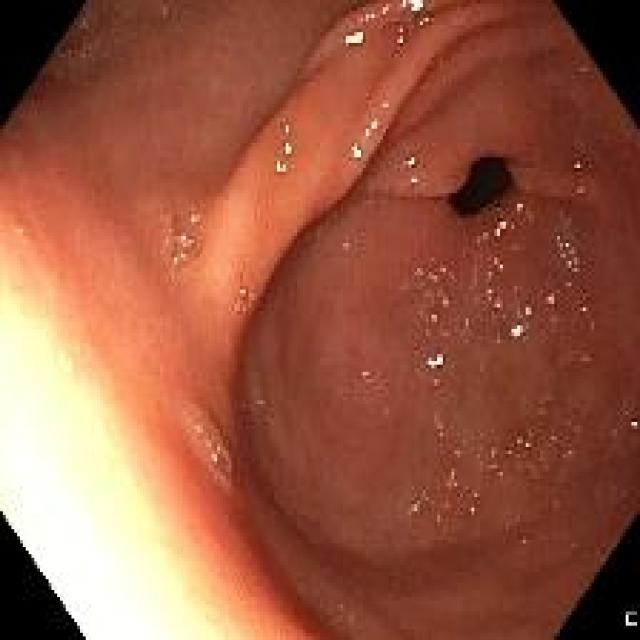bubbles: (165, 199, 218, 286), (46, 16, 102, 78), (193, 417, 234, 480), (236, 278, 262, 324), (512, 427, 537, 457), (402, 492, 422, 517), (433, 414, 447, 436), (544, 290, 557, 309), (16, 221, 27, 241)
contrast: (448, 154, 517, 215)
saturation: (1, 264, 253, 639)
specularity: (415, 262, 457, 332), (350, 96, 392, 165), (553, 209, 585, 289), (497, 302, 533, 342), (270, 122, 295, 179), (484, 254, 508, 307), (436, 464, 462, 511), (537, 283, 563, 319), (339, 26, 373, 52), (401, 152, 421, 189), (424, 343, 445, 368), (492, 215, 510, 240), (399, 1, 427, 17), (580, 346, 595, 370), (469, 487, 480, 519), (574, 179, 591, 199), (451, 444, 465, 465), (338, 236, 353, 255), (356, 11, 376, 25), (626, 414, 637, 438), (573, 152, 584, 175), (577, 298, 587, 319), (380, 4, 392, 20), (171, 252, 186, 264), (588, 319, 598, 335), (515, 201, 527, 214), (178, 232, 188, 242), (210, 452, 218, 464), (397, 35, 404, 44), (18, 227, 24, 236), (412, 503, 417, 512)
